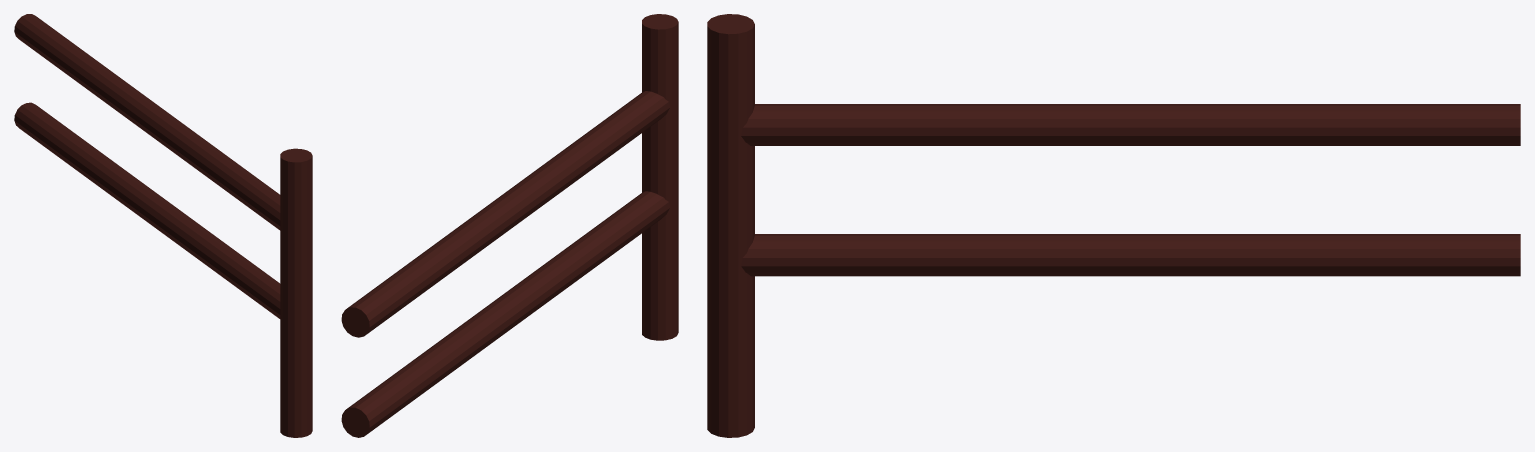
The model's file is Slide Fence.fbx.
3 renders of one model, left to right at view 1: azimuth 30°, elevation 25°; view 2: azimuth 150°, elevation 25°; view 3: azimuth 270°, elevation 25°, orthographic. The views are drawn at different scales.
Visible parts, largest first — view 1: Slide Fence; view 2: Slide Fence; view 3: Slide Fence.
Boxes of the visible parts, x1,y1,x2,y2 form: Slide Fence: [14, 14, 312, 437]; Slide Fence: [341, 14, 678, 437]; Slide Fence: [707, 14, 1520, 437].
Bounding box in the file's own units: 75.19 × 701 × 1279.
